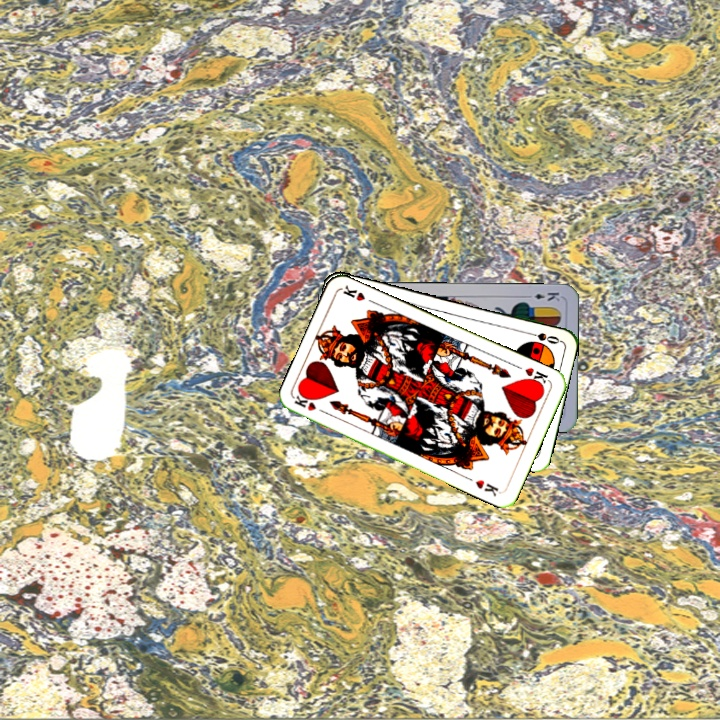EK: (522, 288, 562, 304)
HK: (291, 392, 331, 417), (521, 363, 552, 389)
SO: (522, 327, 562, 347)
